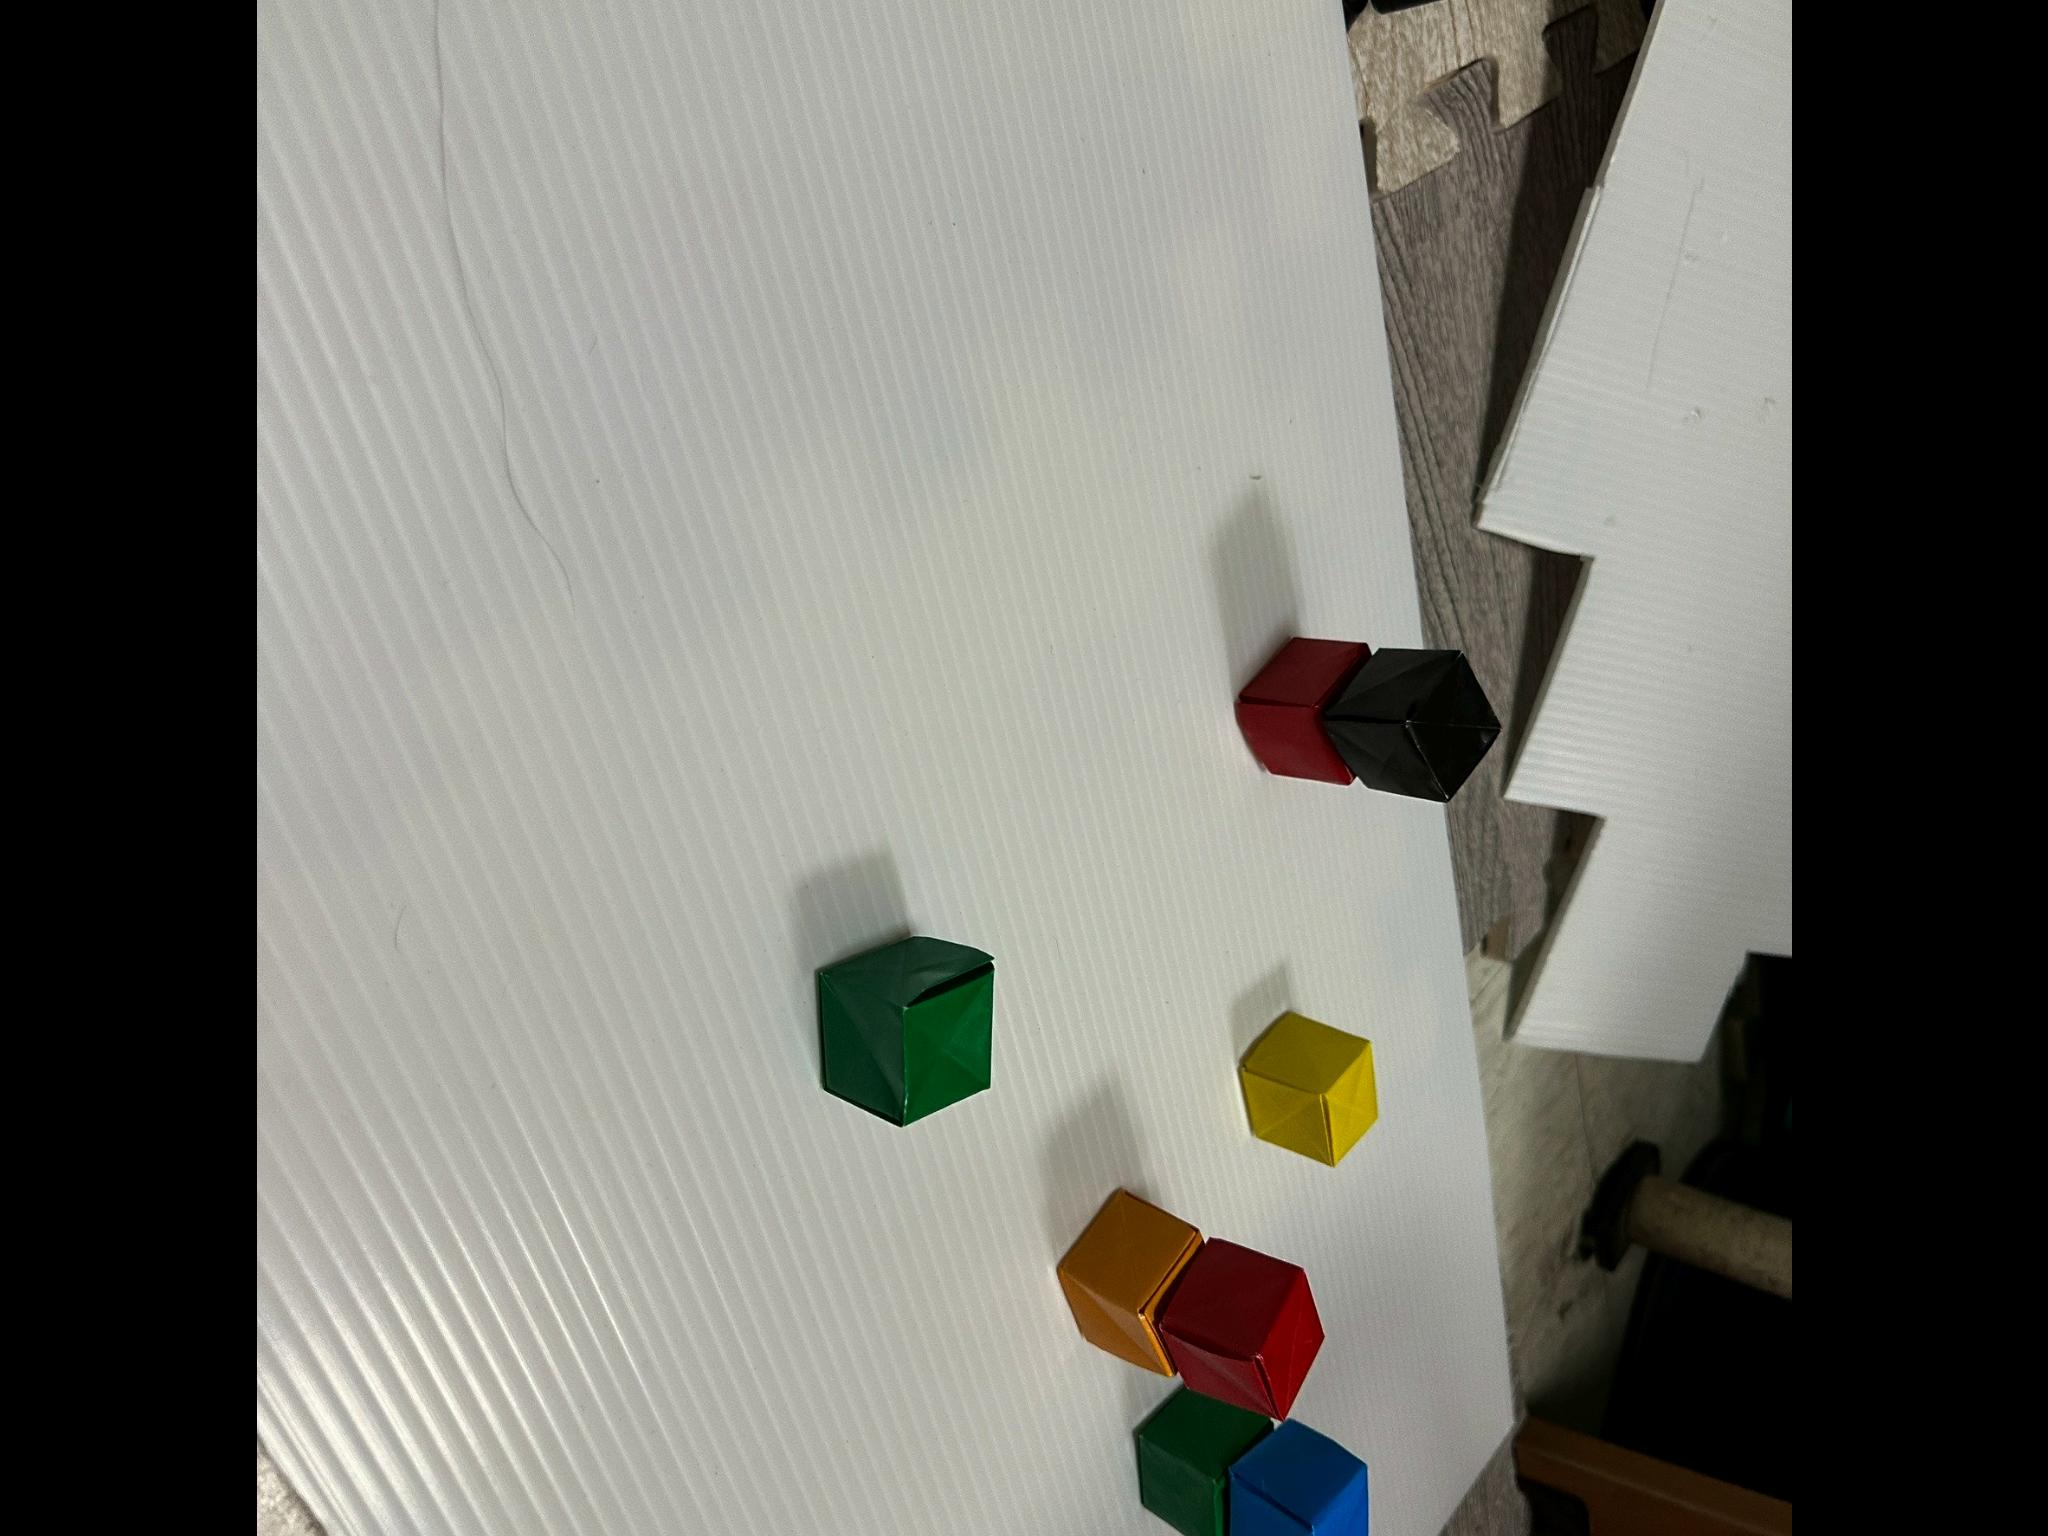base: (818, 937, 992, 1126), (1156, 1239, 1322, 1421), (1324, 649, 1498, 802), (1058, 1191, 1201, 1376), (1242, 1013, 1376, 1167), (1137, 1388, 1271, 1536), (1235, 639, 1369, 784), (1229, 1420, 1366, 1536)
